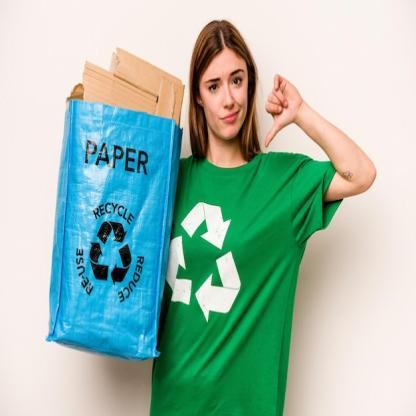thumb_down: (260, 72, 301, 150)
